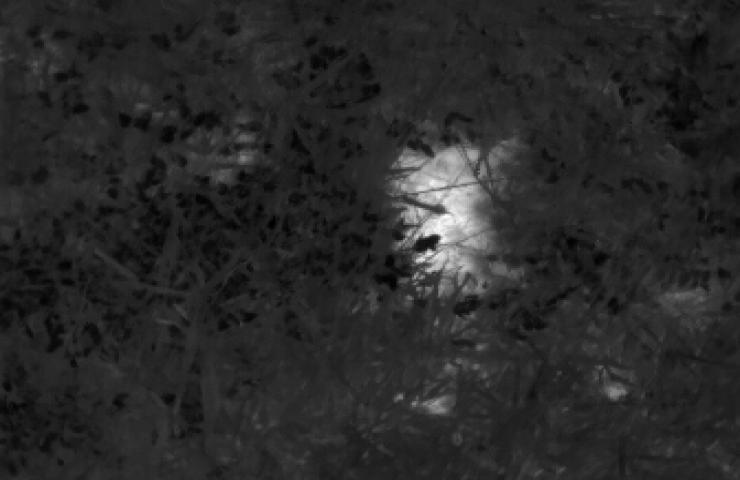landmines: (376, 132, 548, 307)
